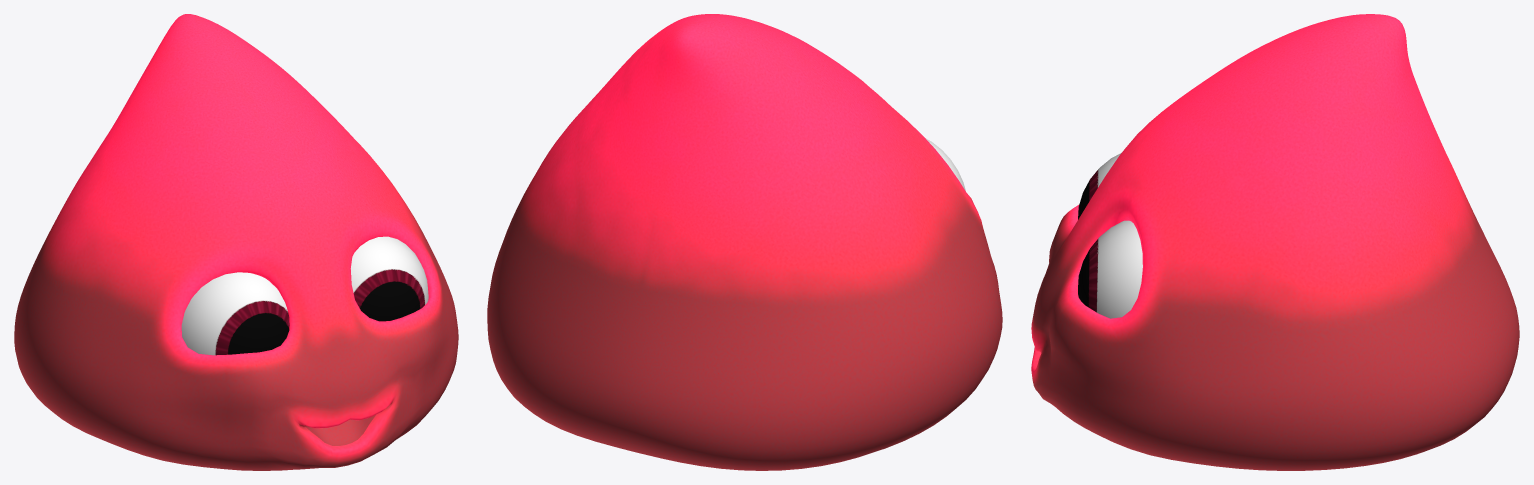
Rendered from OozooRed.glb.
3 views of the same model, side by side, from view 1: azimuth 30°, elevation 25°; view 2: azimuth 150°, elevation 25°; view 3: azimuth 270°, elevation 25° (orthographic). The views are drawn at different scales.
Parts seen in each view (by area): view 1: Cube; view 2: Cube; view 3: Cube.
Part boxes in pixels (x1,y1,x2,y2): Cube: (14, 14, 458, 470); Cube: (487, 14, 1002, 470); Cube: (1031, 14, 1519, 470).
Bounding box in the file's own units: 143 × 124 × 143.
Materials: 1 (1 with a texture image).
